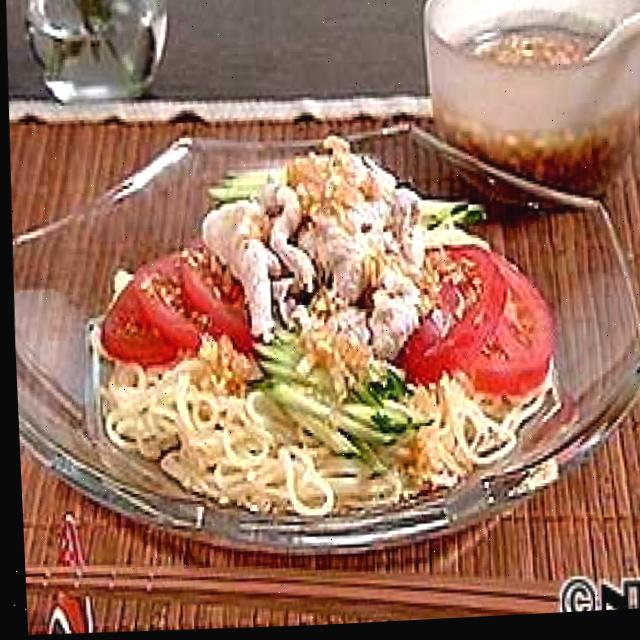面条主食: (4, 96, 640, 566)
